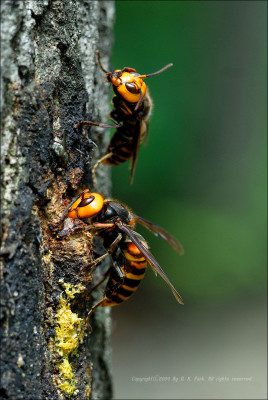asian_giant_hornet: (63, 187, 151, 309), (94, 56, 154, 167)
